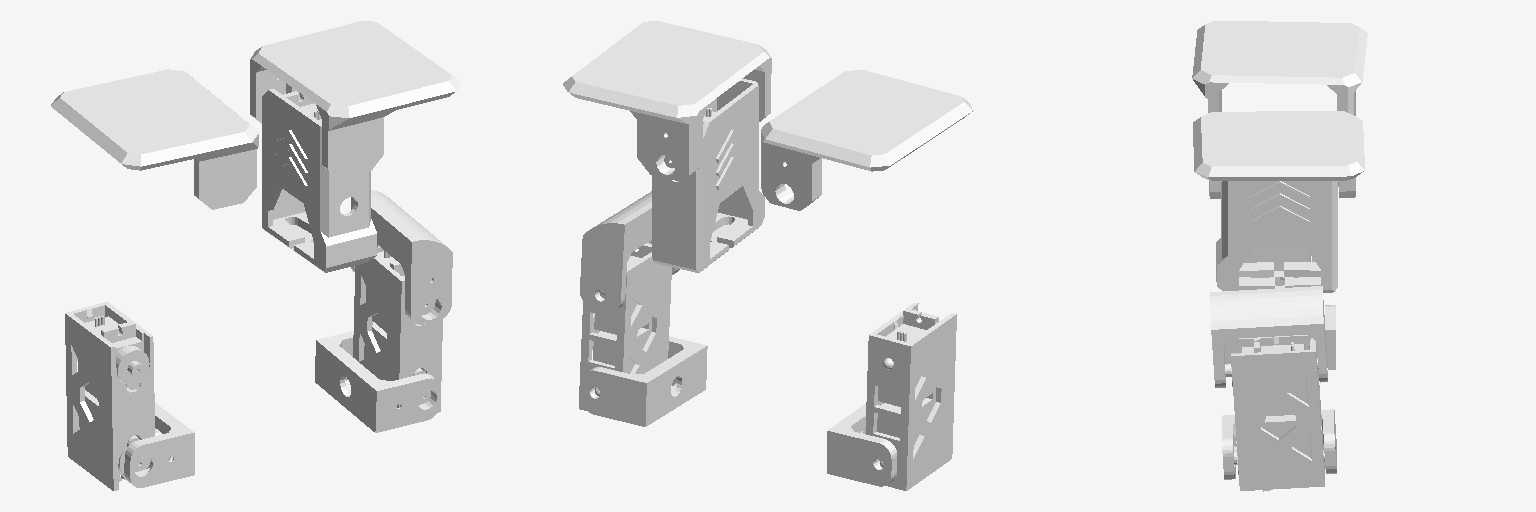
The robot description file, URDF, robot "lono":
<?xml version="1.0" encoding="utf-8"?>
<!-- This URDF was automatically created by SolidWorks to URDF Exporter! Originally created by [author] ([email redacted]) 
     Commit Version: 1.6.0-4-g7f85cfe  Build Version: 1.6.7995.38578
     For more information, please see http://wiki.ros.org/sw_urdf_exporter -->
<robot
  name="lono">
  <link
    name="base_link">
    <inertial>
      <origin
        xyz="-2.35870676795757E-06 0.0094305156131449 -0.0127789557984148"
        rpy="0 0 0" />
      <mass
        value="0.0817321686986618" />
      <inertia
        ixx="4.54053575256145E-05"
        ixy="-4.62356645935577E-09"
        ixz="2.44863810757998E-08"
        iyy="7.92968464875771E-05"
        iyz="-6.84339571394891E-07"
        izz="4.56970572733688E-05" />
    </inertial>
    <visual>
      <origin
        xyz="0 0 0"
        rpy="0 0 0" />
      <geometry>
        <mesh
          filename="../meshes/base_link.STL" />
      </geometry>
      <material
        name="">
        <color
          rgba="1 1 1 1" />
      </material>
    </visual>
    <collision>
      <origin
        xyz="0 0 0"
        rpy="0 0 0" />
      <geometry>
        <mesh
          filename="../meshes/base_link.STL" />
      </geometry>
    </collision>
  </link>
  <link
    name="link1">
    <inertial>
      <origin
        xyz="0.00155704138049143 0.00756389632694045 1.11888450865516E-08"
        rpy="0 0 0" />
      <mass
        value="0.00476544595949618" />
      <inertia
        ixx="3.59211519577302E-07"
        ixy="-3.89835171758286E-08"
        ixz="1.53242926902873E-12"
        iyy="1.24926163447168E-06"
        iyz="3.22034888752399E-13"
        izz="1.36867204846888E-06" />
    </inertial>
    <visual>
      <origin
        xyz="0 0 0"
        rpy="0 0 0" />
      <geometry>
        <mesh
          filename="../meshes/link1.STL" />
      </geometry>
      <material
        name="">
        <color
          rgba="1 1 1 1" />
      </material>
    </visual>
    <collision>
      <origin
        xyz="0 0 0"
        rpy="0 0 0" />
      <geometry>
        <mesh
          filename="../meshes/link1.STL" />
      </geometry>
    </collision>
  </link>
  <joint
    name="rightShoulder"
    type="revolute">
    <origin
      xyz="0.03525 0.006 -0.0225"
      rpy="3.1416 -0.061032 1.5708" />
    <parent
      link="base_link" />
    <child
      link="link1" />
    <axis
      xyz="0 1 0" />
    <limit
      lower="-1.07"
      upper="1.07"
      effort="100"
      velocity="1" />
  </joint>
  <link
    name="link2">
    <inertial>
      <origin
        xyz="0.0174999999999999 0.000106912131298625 -0.000599963478011563"
        rpy="0 0 0" />
      <mass
        value="0.0223939561935122" />
      <inertia
        ixx="2.20304214500323E-06"
        ixy="4.41052702613274E-21"
        ixz="2.81373757166038E-20"
        iyy="4.31549369889667E-06"
        iyz="5.4443418010377E-09"
        izz="3.14768180987024E-06" />
    </inertial>
    <visual>
      <origin
        xyz="0 0 0"
        rpy="0 0 0" />
      <geometry>
        <mesh
          filename="../meshes/link2.STL" />
      </geometry>
      <material
        name="">
        <color
          rgba="1 1 1 1" />
      </material>
    </visual>
    <collision>
      <origin
        xyz="0 0 0"
        rpy="0 0 0" />
      <geometry>
        <mesh
          filename="../meshes/link2.STL" />
      </geometry>
    </collision>
  </link>
  <joint
    name="rightElbow"
    type="revolute">
    <origin
      xyz="0 0.02 0"
      rpy="-1.5708 1.5613 -1.5708" />
    <parent
      link="link1" />
    <child
      link="link2" />
    <axis
      xyz="0 0 -1" />
    <limit
      lower="-1.07"
      upper="1.07"
      effort="100"
      velocity="1" />
  </joint>
  <link
    name="link3">
    <inertial>
      <origin
        xyz="-0.000645710937073225 -0.0177198064022607 0.000808381938847594"
        rpy="0 0 0" />
      <mass
        value="0.00816598274942115" />
      <inertia
        ixx="6.06279790478533E-07"
        ixy="-2.47933268180858E-08"
        ixz="2.33874464224115E-09"
        iyy="1.70437091175603E-06"
        iyz="4.77946268723085E-08"
        izz="1.97438662048862E-06" />
    </inertial>
    <visual>
      <origin
        xyz="0 0 0"
        rpy="0 0 0" />
      <geometry>
        <mesh
          filename="../meshes/link3.STL" />
      </geometry>
      <material
        name="">
        <color
          rgba="1 1 1 1" />
      </material>
    </visual>
    <collision>
      <origin
        xyz="0 0 0"
        rpy="0 0 0" />
      <geometry>
        <mesh
          filename="../meshes/link3.STL" />
      </geometry>
    </collision>
  </link>
  <joint
    name="rightWrist"
    type="revolute">
    <origin
      xyz="0.035 0 0"
      rpy="1.5587 -1.5708 0" />
    <parent
      link="link2" />
    <child
      link="link3" />
    <axis
      xyz="-1 0 0" />
    <limit
      lower="-1.07"
      upper="1.07"
      effort="100"
      velocity="1" />
  </joint>
  <link
    name="link4">
    <inertial>
      <origin
        xyz="0.00155704138049288 0.00756389632694142 1.11888465194332E-08"
        rpy="0 0 0" />
      <mass
        value="0.00476544595949617" />
      <inertia
        ixx="3.59211519577301E-07"
        ixy="-3.89835171758288E-08"
        ixz="1.53242944011367E-12"
        iyy="1.24926163447168E-06"
        iyz="3.22034895483685E-13"
        izz="1.36867204846888E-06" />
    </inertial>
    <visual>
      <origin
        xyz="0 0 0"
        rpy="0 0 0" />
      <geometry>
        <mesh
          filename="../meshes/link4.STL" />
      </geometry>
      <material
        name="">
        <color
          rgba="1 1 1 1" />
      </material>
    </visual>
    <collision>
      <origin
        xyz="0 0 0"
        rpy="0 0 0" />
      <geometry>
        <mesh
          filename="../meshes/link4.STL" />
      </geometry>
    </collision>
  </link>
  <joint
    name="leftShoulder"
    type="revolute">
    <origin
      xyz="-0.03525 0.006 -0.0225"
      rpy="0 -0.011897 1.5708" />
    <parent
      link="base_link" />
    <child
      link="link4" />
    <axis
      xyz="0 1 0" />
    <limit
      lower="-1.07"
      upper="1.07"
      effort="100"
      velocity="1" />
  </joint>
  <link
    name="link5">
    <inertial>
      <origin
        xyz="-0.017500000000001 0.00010691213130111 -0.000599963478009599"
        rpy="0 0 0" />
      <mass
        value="0.0223939561935122" />
      <inertia
        ixx="2.20304214500323E-06"
        ixy="2.355479512306E-19"
        ixz="-5.64137177761165E-22"
        iyy="4.31549369889668E-06"
        iyz="5.44434180107365E-09"
        izz="3.14768180987024E-06" />
    </inertial>
    <visual>
      <origin
        xyz="0 0 0"
        rpy="0 0 0" />
      <geometry>
        <mesh
          filename="../meshes/link5.STL" />
      </geometry>
      <material
        name="">
        <color
          rgba="1 1 1 1" />
      </material>
    </visual>
    <collision>
      <origin
        xyz="0 0 0"
        rpy="0 0 0" />
      <geometry>
        <mesh
          filename="../meshes/link5.STL" />
      </geometry>
    </collision>
  </link>
  <joint
    name="leftElbow"
    type="revolute">
    <origin
      xyz="0 0.02 0"
      rpy="-1.5708 1.5437 -1.5708" />
    <parent
      link="link4" />
    <child
      link="link5" />
    <axis
      xyz="0 0 -1" />
    <limit
      lower="-1.07"
      upper="1.07"
      effort="100"
      velocity="1" />
  </joint>
  <link
    name="link6">
    <inertial>
      <origin
        xyz="-0.000645710937071803 -0.0177198064022607 -0.000808381938847517"
        rpy="0 0 0" />
      <mass
        value="0.00816598274942115" />
      <inertia
        ixx="6.06279790478531E-07"
        ixy="-2.47933268180855E-08"
        ixz="-2.33874464224113E-09"
        iyy="1.70437091175603E-06"
        iyz="-4.77946268723084E-08"
        izz="1.97438662048862E-06" />
    </inertial>
    <visual>
      <origin
        xyz="0 0 0"
        rpy="0 0 0" />
      <geometry>
        <mesh
          filename="../meshes/link6.STL" />
      </geometry>
      <material
        name="">
        <color
          rgba="1 1 1 1" />
      </material>
    </visual>
    <collision>
      <origin
        xyz="0 0 0"
        rpy="0 0 0" />
      <geometry>
        <mesh
          filename="../meshes/link6.STL" />
      </geometry>
    </collision>
  </link>
  <joint
    name="leftWrist"
    type="revolute">
    <origin
      xyz="-0.035 0 0"
      rpy="-1.7194 -1.5708 0.15999" />
    <parent
      link="link5" />
    <child
      link="link6" />
    <axis
      xyz="-1 0 0" />
    <limit
      lower="-1.07"
      upper="1.07"
      effort="100"
      velocity="1" />
  </joint>
  <link
    name="link7">
    <inertial>
      <origin
        xyz="-0.00183150299939402 -6.17561557447743E-16 0.0310901743312165"
        rpy="0 0 0" />
      <mass
        value="0.0240848296985867" />
      <inertia
        ixx="5.54703139736069E-06"
        ixy="-5.69100261436483E-22"
        ixz="-4.17650546187686E-08"
        iyy="8.26645791373806E-06"
        iyz="-4.05835488033829E-22"
        izz="4.74175196354046E-06" />
    </inertial>
    <visual>
      <origin
        xyz="0 0 0"
        rpy="0 0 0" />
      <geometry>
        <mesh
          filename="../meshes/link7.STL" />
      </geometry>
      <material
        name="">
        <color
          rgba="1 1 1 1" />
      </material>
    </visual>
    <collision>
      <origin
        xyz="0 0 0"
        rpy="0 0 0" />
      <geometry>
        <mesh
          filename="../meshes/link7.STL" />
      </geometry>
    </collision>
  </link>
  <joint
    name="rightHip"
    type="revolute">
    <origin
      xyz="0.024 0.006 0.03175"
      rpy="0 0 -1.5539" />
    <parent
      link="base_link" />
    <child
      link="link7" />
    <axis
      xyz="0 0 1" />
    <limit
      lower="-1.07"
      upper="1.07"
      effort="100"
      velocity="1" />
  </joint>
  <link
    name="link8">
    <inertial>
      <origin
        xyz="-0.0450365829354736 0.00575716068978066 0.0306262975673793"
        rpy="0 0 0" />
      <mass
        value="0.0175353489272895" />
      <inertia
        ixx="7.60744187238841E-06"
        ixy="-6.8697978613246E-07"
        ixz="8.63021430175223E-08"
        iyy="1.06134504185981E-05"
        iyz="1.13734845825163E-07"
        izz="4.50203500096417E-06" />
    </inertial>
    <visual>
      <origin
        xyz="0 0 0"
        rpy="0 0 0" />
      <geometry>
        <mesh
          filename="../meshes/link8.STL" />
      </geometry>
      <material
        name="">
        <color
          rgba="1 1 1 1" />
      </material>
    </visual>
    <collision>
      <origin
        xyz="0 0 0"
        rpy="0 0 0" />
      <geometry>
        <mesh
          filename="../meshes/link8.STL" />
      </geometry>
    </collision>
  </link>
  <joint
    name="rightAnkle"
    type="revolute">
    <origin
      xyz="-0.0305 -0.031 0.065"
      rpy="-1.5708 0 -1.5708" />
    <parent
      link="link7" />
    <child
      link="link8" />
    <axis
      xyz="0 0 0" />
    <limit
      lower="0"
      upper="0"
      effort="0"
      velocity="0" />
  </joint>
  <link
    name="link9">
    <inertial>
      <origin
        xyz="-0.00183150299939345 1.48318857196017E-16 0.0310901743312164"
        rpy="0 0 0" />
      <mass
        value="0.0240848296985867" />
      <inertia
        ixx="5.5470313973607E-06"
        ixy="-7.14684049245816E-22"
        ixz="-4.17650546187705E-08"
        iyy="8.26645791373807E-06"
        iyz="-1.37725571990079E-22"
        izz="4.74175196354046E-06" />
    </inertial>
    <visual>
      <origin
        xyz="0 0 0"
        rpy="0 0 0" />
      <geometry>
        <mesh
          filename="../meshes/link9.STL" />
      </geometry>
      <material
        name="">
        <color
          rgba="1 1 1 1" />
      </material>
    </visual>
    <collision>
      <origin
        xyz="0 0 0"
        rpy="0 0 0" />
      <geometry>
        <mesh
          filename="../meshes/link9.STL" />
      </geometry>
    </collision>
  </link>
  <joint
    name="leftHip"
    type="revolute">
    <origin
      xyz="-0.024 0.006 0.03175"
      rpy="0 0 -1.6161" />
    <parent
      link="base_link" />
    <child
      link="link9" />
    <axis
      xyz="0 0 1" />
    <limit
      lower="-1.07"
      upper="1.07"
      effort="100"
      velocity="1" />
  </joint>
  <link
    name="link10">
    <inertial>
      <origin
        xyz="0.0250365865695403 0.00575716069942367 0.0306263002119839"
        rpy="0 0 0" />
      <mass
        value="0.0175353461124486" />
      <inertia
        ixx="7.60744269068585E-06"
        ixy="6.8697995050001E-07"
        ixz="-8.63012292690837E-08"
        iyy="1.06134493363772E-05"
        iyz="1.13735700885357E-07"
        izz="4.50203473712973E-06" />
    </inertial>
    <visual>
      <origin
        xyz="0 0 0"
        rpy="0 0 0" />
      <geometry>
        <mesh
          filename="../meshes/link10.STL" />
      </geometry>
      <material
        name="">
        <color
          rgba="1 1 1 1" />
      </material>
    </visual>
    <collision>
      <origin
        xyz="0 0 0"
        rpy="0 0 0" />
      <geometry>
        <mesh
          filename="../meshes/link10.STL" />
      </geometry>
    </collision>
  </link>
  <joint
    name="leftAnkle"
    type="revolute">
    <origin
      xyz="-0.0305 0.011 0.065"
      rpy="-1.5708 0 -1.5708" />
    <parent
      link="link9" />
    <child
      link="link10" />
    <axis
      xyz="0 0 0" />
    <limit
      lower="-1.07"
      upper="1.07"
      effort="100"
      velocity="1" />
  </joint>
</robot>

--- What the picture shows (computed from the rendered views, not written in the file) ---
The picture shows the robot from 3 angles, left to right: view 1: azimuth 30°, elevation 25°; view 2: azimuth 150°, elevation 25°; view 3: azimuth 270°, elevation 25°; orthographic projection.
Model lono with 11 links and 10 joints (10 revolute), rooted at base_link, posed every joint at zero.
Visible links, largest first — view 1: link8, link10, link7, link5, link2, link1, link3, link4; view 2: link8, link10, link7, link5, link2, link1, link3, link4; view 3: link2, link8, link10, link7, link3, link1, link5, link4.
Boxes of the visible links, box(x1,y1,x2,y2) form: link8: box(250, 21, 461, 178); link10: box(51, 69, 258, 209); link7: box(262, 89, 376, 272); link5: box(65, 302, 154, 490); link2: box(353, 245, 442, 412); link1: box(315, 331, 440, 432); link3: box(351, 190, 452, 324); link4: box(124, 403, 194, 487); link8: box(563, 21, 771, 181); link10: box(761, 70, 973, 210); link7: box(652, 78, 764, 272); link5: box(865, 303, 956, 490); link2: box(579, 243, 671, 410); link1: box(582, 336, 707, 426); link3: box(580, 191, 679, 311); link4: box(827, 404, 896, 486); link2: box(1225, 335, 1324, 491); link8: box(1193, 111, 1364, 198); link10: box(1192, 20, 1367, 115); link7: box(1216, 181, 1338, 292); link3: box(1210, 286, 1327, 387); link1: box(1222, 409, 1336, 479); link5: box(1244, 241, 1315, 285); link4: box(1225, 305, 1335, 369).
Bounding box of the posed robot: 0.1316 × 0.0638 × 0.1308 m (x, y, z).
Meshes: 11 distinct files referenced, 8 mesh visuals loaded (8 binary STL); not drawn: 3 (reference not matched to a file when rendering).
